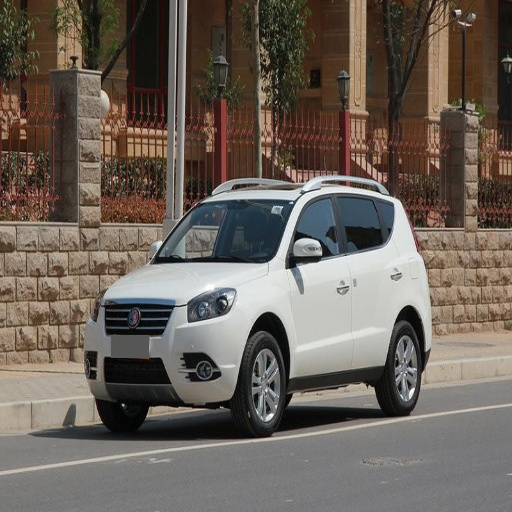front_bumper: (84, 294, 252, 406)
front_glass: (153, 198, 293, 262)
front_left_door: (287, 192, 352, 374)
